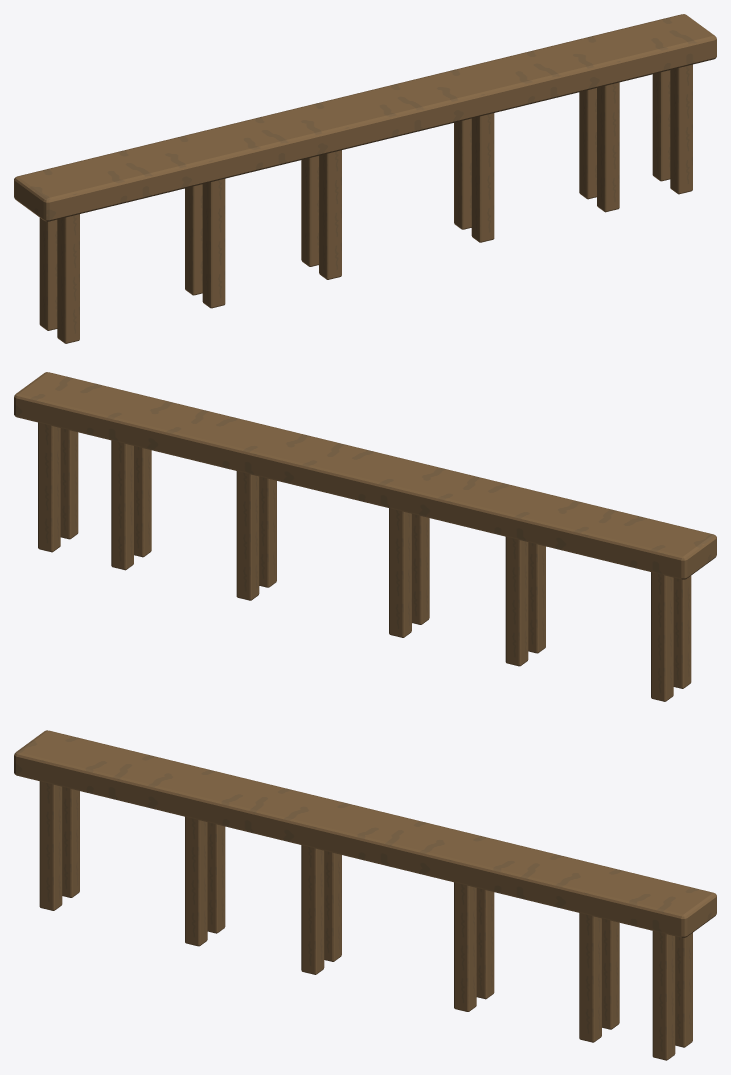
The model's file is Welt.fbx.
3 views of the same model, one above another, from view 1: azimuth 30°, elevation 25°; view 2: azimuth 150°, elevation 25°; view 3: azimuth 330°, elevation 25° (orthographic).
Parts seen in each view (by area): view 1: Würfel, Würfel_4, Würfel_8, Würfel_9, Würfel_5, Würfel_12, Würfel_1, Würfel_2, Würfel_11, Würfel_7, Würfel_3, Würfel_10 (+1 smaller); view 2: Würfel, Würfel_3, Würfel_7, Würfel_10, Würfel_6, Würfel_11, Würfel_2, Würfel_1, Würfel_12, Würfel_8, Würfel_4, Würfel_9 (+1 smaller); view 3: Würfel, Würfel_12, Würfel_5, Würfel_1, Würfel_4, Würfel_8, Würfel_9, Würfel_7, Würfel_3, Würfel_11, Würfel_2, Würfel_6 (+1 smaller).
Boxes of the visible parts, bbox=[...] form: Würfel: bbox=[14, 14, 716, 221]; Würfel_4: bbox=[202, 179, 225, 308]; Würfel_8: bbox=[471, 113, 494, 242]; Würfel_9: bbox=[597, 82, 619, 212]; Würfel_5: bbox=[319, 150, 341, 279]; Würfel_12: bbox=[670, 64, 692, 194]; Würfel_1: bbox=[57, 214, 79, 343]; Würfel_2: bbox=[39, 218, 57, 330]; Würfel_11: bbox=[652, 70, 670, 181]; Würfel_7: bbox=[454, 118, 471, 229]; Würfel_3: bbox=[185, 184, 202, 295]; Würfel_10: bbox=[579, 88, 596, 199]; Würfel: bbox=[14, 372, 716, 579]; Würfel_3: bbox=[505, 537, 528, 666]; Würfel_7: bbox=[236, 471, 259, 600]; Würfel_10: bbox=[111, 440, 133, 570]; Würfel_6: bbox=[389, 508, 411, 637]; Würfel_11: bbox=[38, 422, 60, 552]; Würfel_2: bbox=[651, 572, 673, 701]; Würfel_1: bbox=[673, 576, 691, 688]; Würfel_12: bbox=[60, 428, 78, 539]; Würfel_8: bbox=[259, 476, 276, 587]; Würfel_4: bbox=[528, 542, 545, 653]; Würfel_9: bbox=[134, 446, 151, 557]; Würfel: bbox=[14, 730, 716, 937]; Würfel_12: bbox=[652, 931, 675, 1060]; Würfel_5: bbox=[301, 845, 324, 974]; Würfel_1: bbox=[39, 781, 62, 910]; Würfel_4: bbox=[185, 816, 207, 946]; Würfel_8: bbox=[454, 882, 476, 1011]; Würfel_9: bbox=[579, 913, 601, 1042]; Würfel_7: bbox=[476, 888, 494, 999]; Würfel_3: bbox=[207, 822, 225, 933]; Würfel_11: bbox=[675, 933, 692, 1047]; Würfel_2: bbox=[62, 787, 79, 897]; Würfel_6: bbox=[324, 850, 341, 961].
Size of the model in its own units: 6932 by 1499 by 600.
13 materials, 13 textured.
